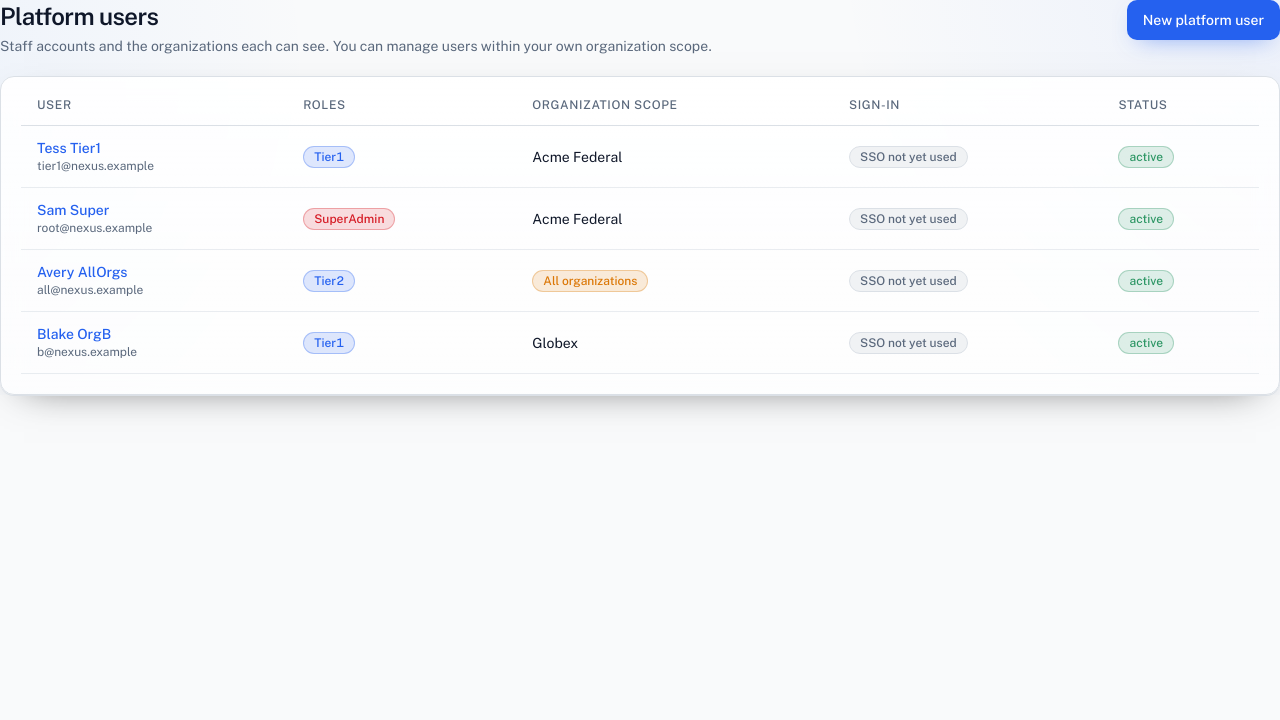
Test: TeamPage for a delegated admin › offers only the organizations the admin manages
Expected: the text "Tess Tier1" is shown, left=37, top=140, right=101, bottom=156
Click the button "New platform user".
click(1203, 20)  # box left=1127, top=0, right=1279, bottom=40
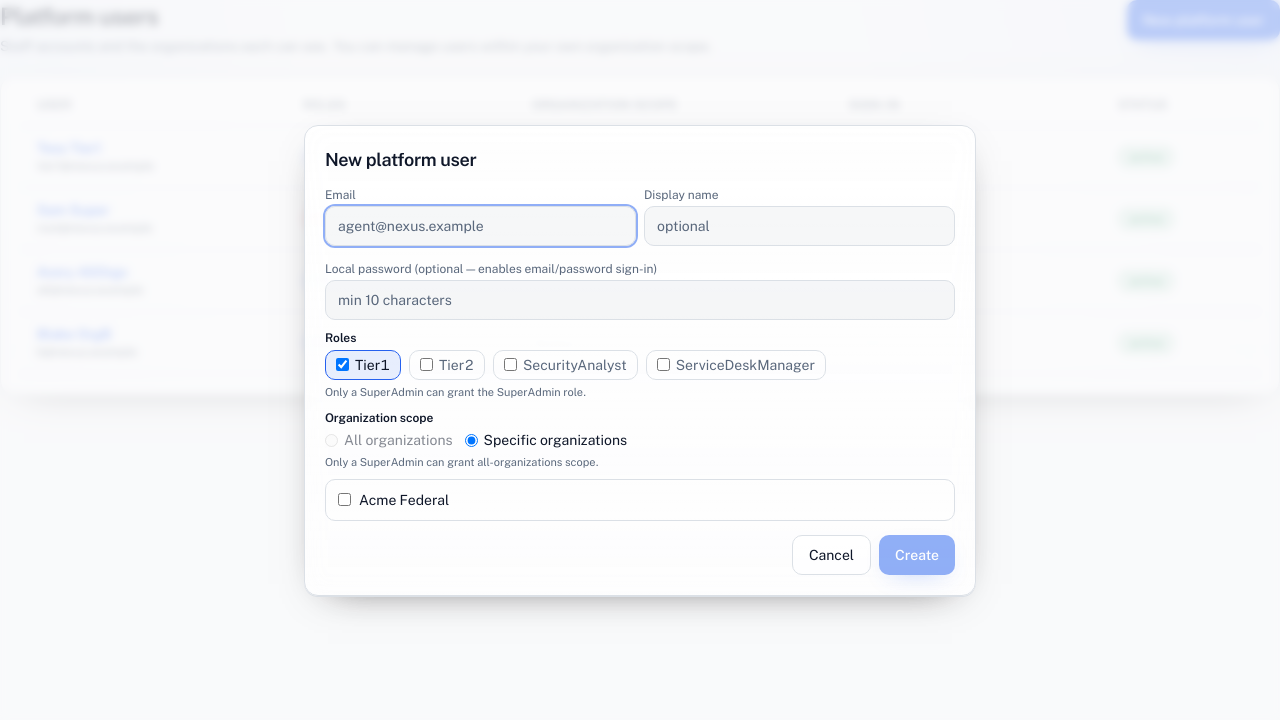
Expected: the checkbox labelled "Acme Federal" is shown, left=338, top=493, right=351, bottom=506
